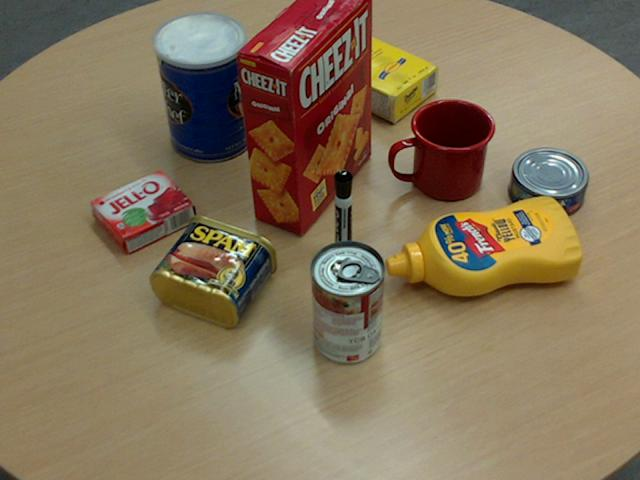cracker_box: (235, 0, 372, 234)
gelatin_box: (89, 168, 194, 252)
large_marker: (333, 170, 353, 264)
master_chef_can: (153, 11, 252, 162)
mug: (389, 98, 494, 200)
mustard_bottle: (384, 195, 581, 296)
potted_meat_can: (149, 214, 277, 326)
sugar_box: (287, 18, 438, 122)
tomato_soup_can: (308, 239, 384, 363)
tuna_fish_can: (507, 147, 587, 217)
